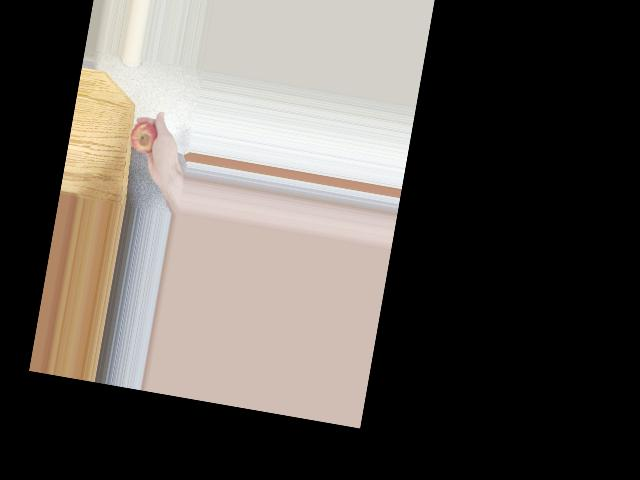apple: (127, 118, 162, 157)
